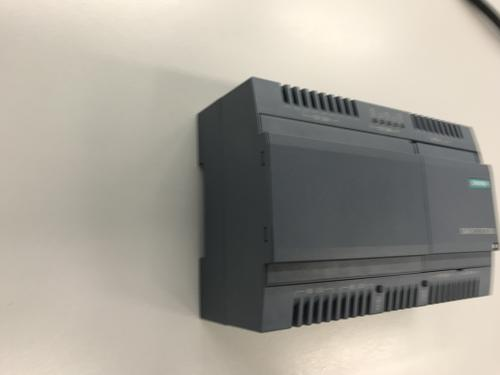device: (197, 77, 500, 334)
